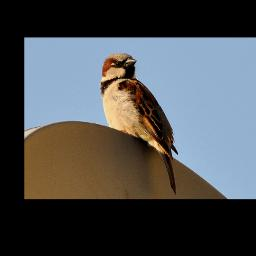Swallow: (99, 53, 178, 195)
